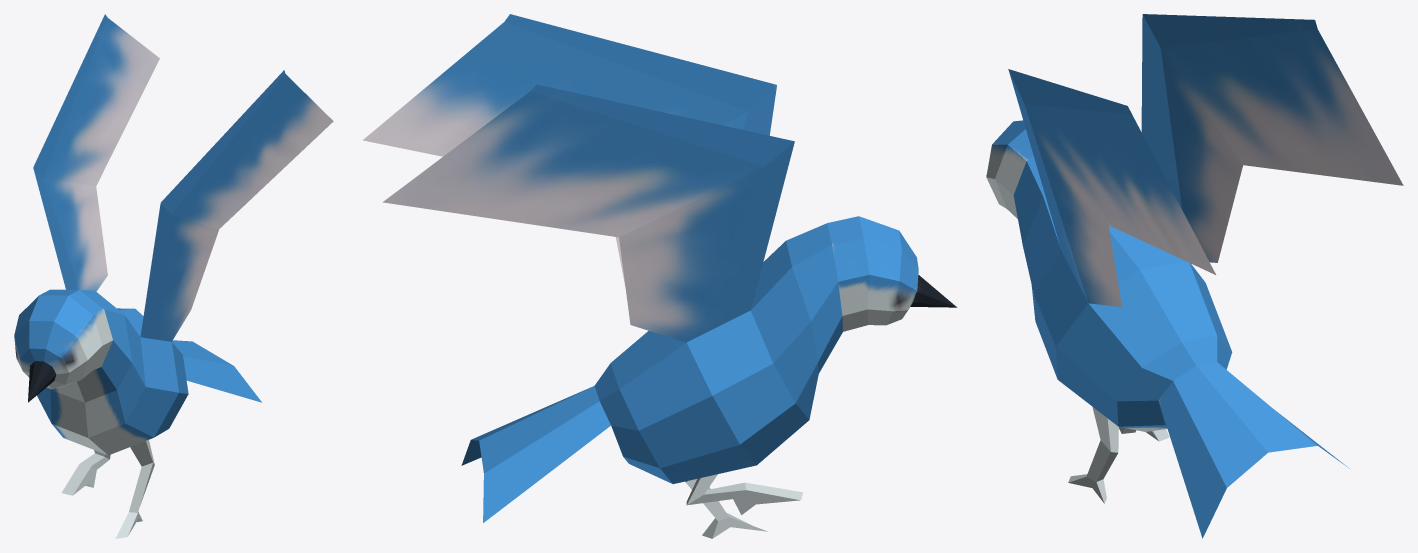
File: bird.gltf
The picture shows the model from 3 angles, left to right: view 1: azimuth 30°, elevation 25°; view 2: azimuth 150°, elevation 25°; view 3: azimuth 270°, elevation 25°; orthographic projection. The views are drawn at different scales.
Parts seen in each view (by area): view 1: bird; view 2: bird; view 3: bird.
Boxes of the visible parts, box(x1,y1,x2,y2) form: bird: box(14, 14, 333, 538); bird: box(363, 14, 956, 538); bird: box(986, 14, 1403, 538).
Size of the model in its own units: 0.8513 by 0.8701 by 0.6414.
1 material, 1 textured.
